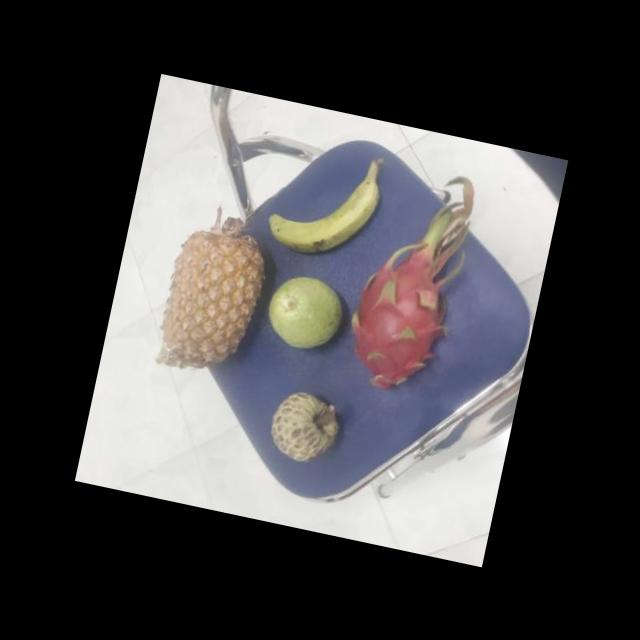Sakya fruit: (262, 388, 344, 472)
banana: (262, 154, 384, 272)
guava: (259, 270, 349, 358)
pineapple: (152, 220, 274, 380)
pitaya: (336, 237, 461, 406)
